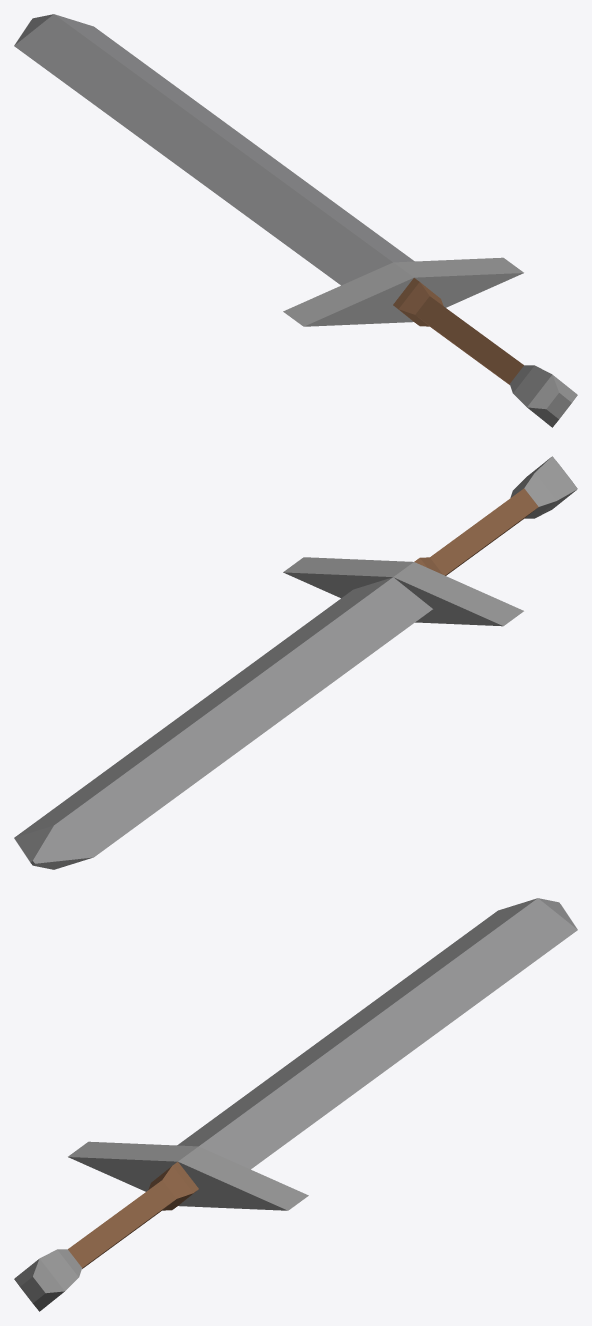
File: Sword.fbx
3 views of the same model, one above another, from view 1: azimuth 30°, elevation 25°; view 2: azimuth 150°, elevation 25°; view 3: azimuth 330°, elevation 25° (orthographic).
Parts seen in each view (by area): view 1: Sword; view 2: Sword; view 3: Sword.
Boxes of the visible parts, x1,y1,x2,y2 form: Sword: (14,14,577,427); Sword: (14,456,577,869); Sword: (14,898,577,1311).
Size of the model in its own units: 0.3317 by 0.0767 by 1.37.
